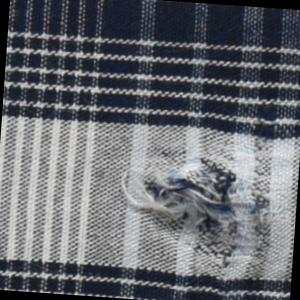Damage: (113, 107, 285, 300)
